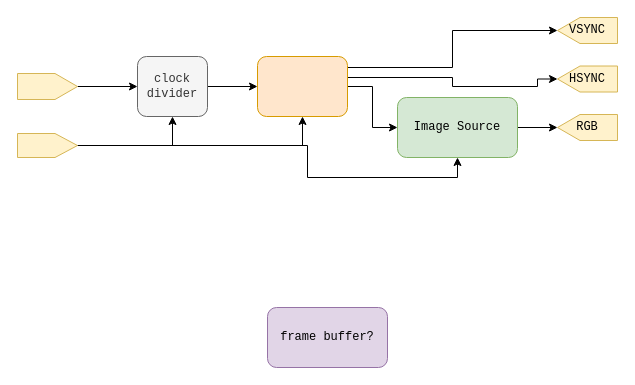
Some shapes in this 635 by 385 pixel diagram are drawn without their labels. The shapes that lost their labels are listed below. From the top down, each one's box as (x1, y1, x2, y2) in pixels, then its label:
(16, 72, 78, 100): CLOCK
(256, 56, 348, 116): VGA Driver
(16, 132, 78, 158): RESET
